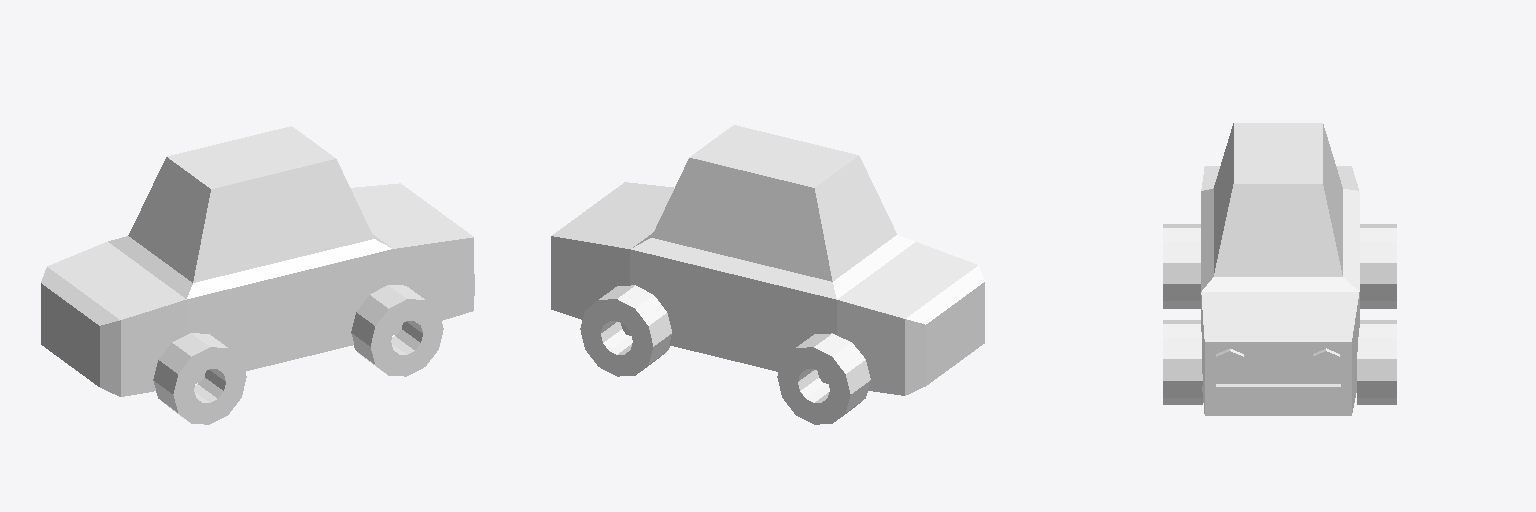
Rendered from Diego's Car.obj.
3 views of the same model, side by side, from view 1: azimuth 30°, elevation 25°; view 2: azimuth 150°, elevation 25°; view 3: azimuth 270°, elevation 25° (orthographic).
Parts seen in each view (by area): view 1: Diego's Car; view 2: Diego's Car; view 3: Diego's Car.
Part boxes in pixels (x1,y1,x2,y2): Diego's Car: (41,126,474,424); Diego's Car: (551,125,984,424); Diego's Car: (1163,123,1396,415).
Bounding box in the file's own units: 9.05 × 4.64 × 4.92.